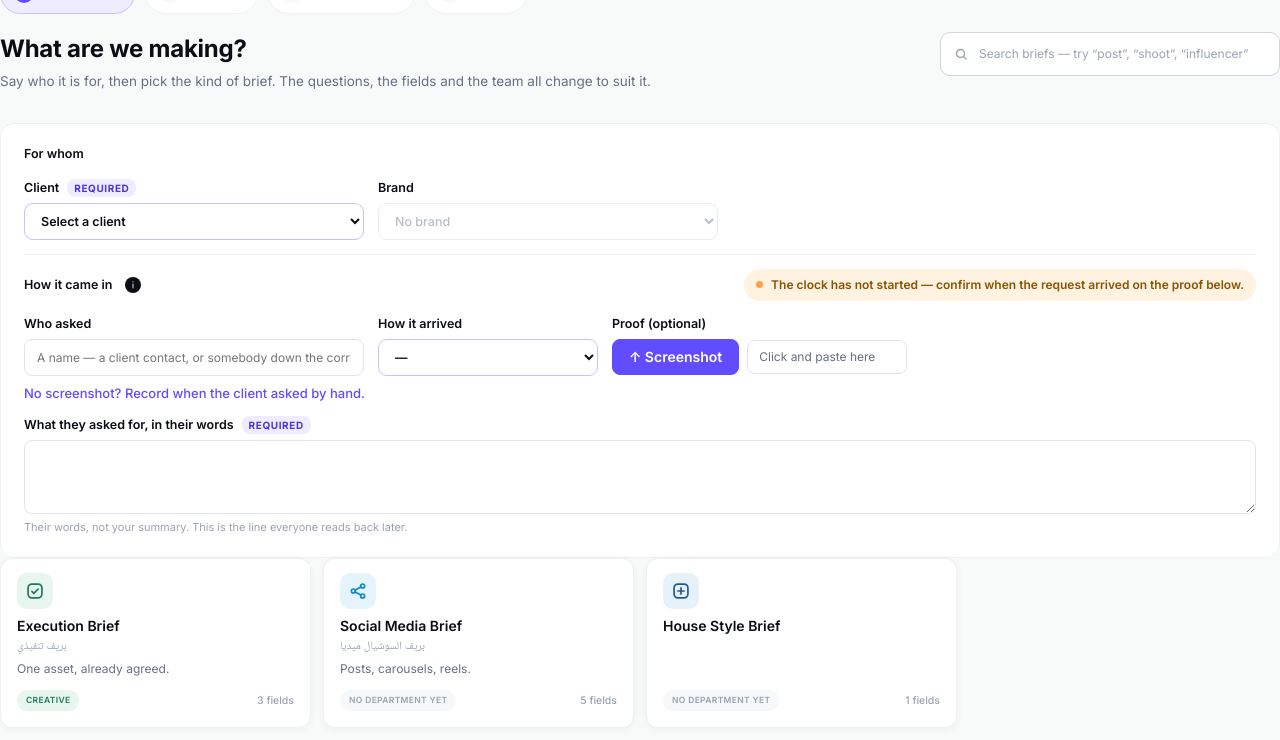
Test case: SingleJobWizard — SJ-v3-01 what are we making? (Figma B · SINGLE JOB — BRIEF FIRST, 22 Sep) › is greyed until a brief is picked, then refuses without a client and the words, naming both
Click the button with test id "sj-brief-card-single_execution" at (35, 591), box [0,558,311,728]
(page scrolled)
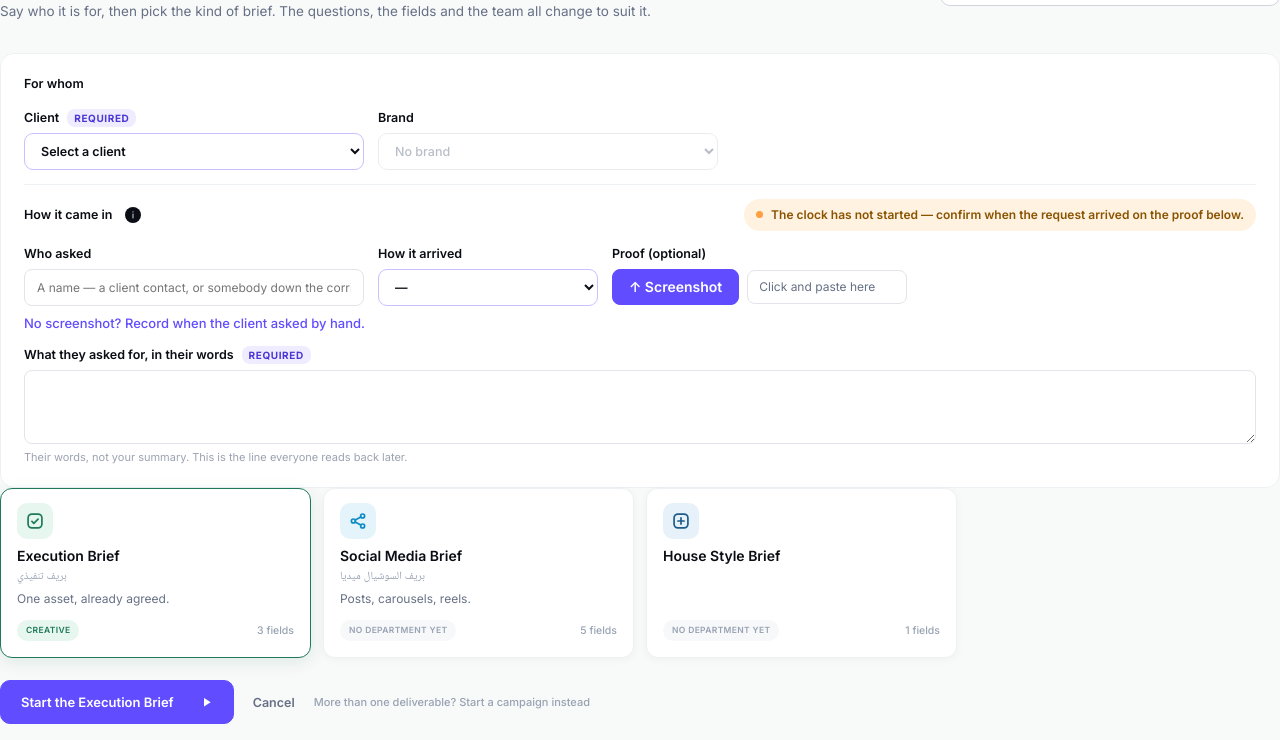
Click the button with test id "sj-next" at (117, 702), box [0,680,234,724]
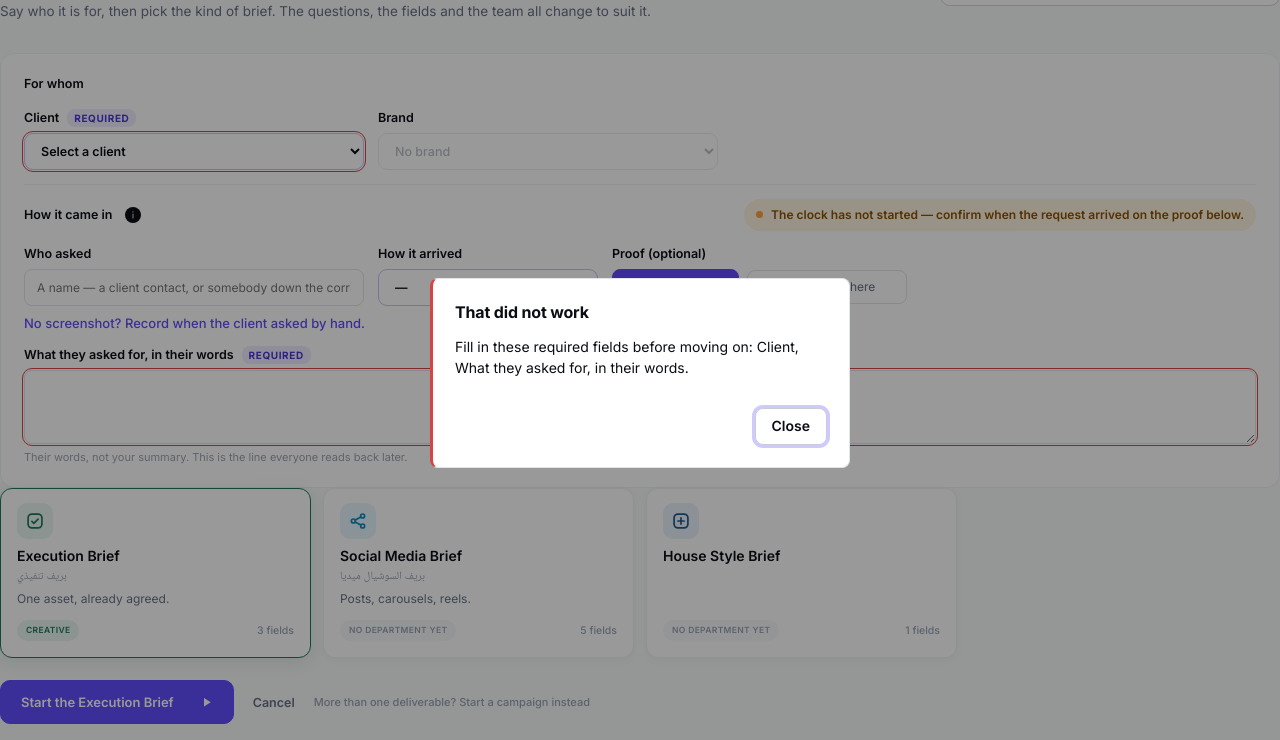
Expected: the text with test id "sj-error" shows "Client", [455,338,799,376]
Expected: the text with test id "sj-error" shows "What they asked for", [455,338,799,376]
